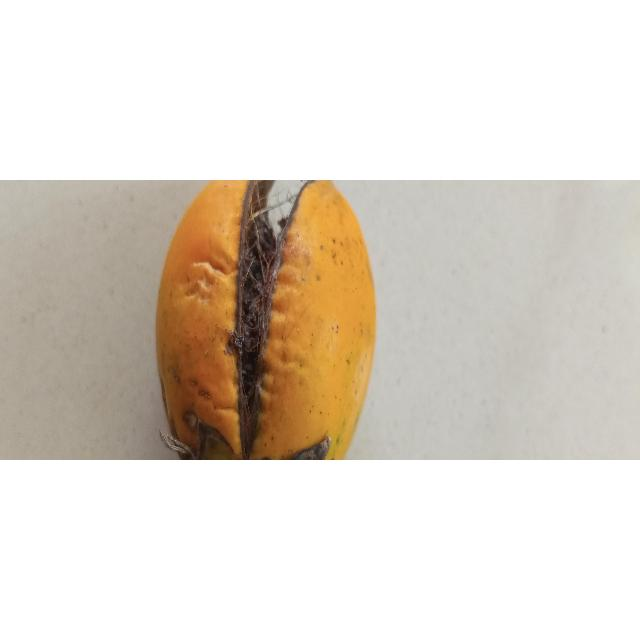damaged: (155, 180, 378, 461)
